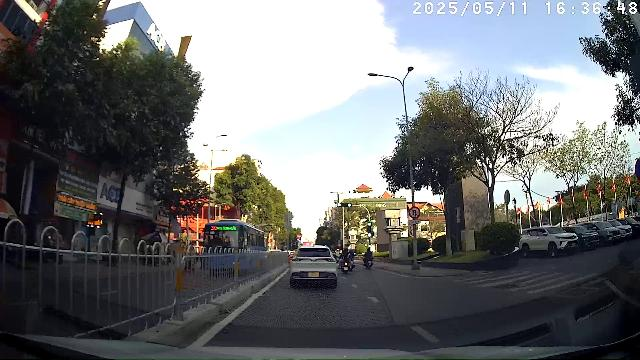124b-cam-oto-quay-dau-xe: (409, 206, 421, 218)
